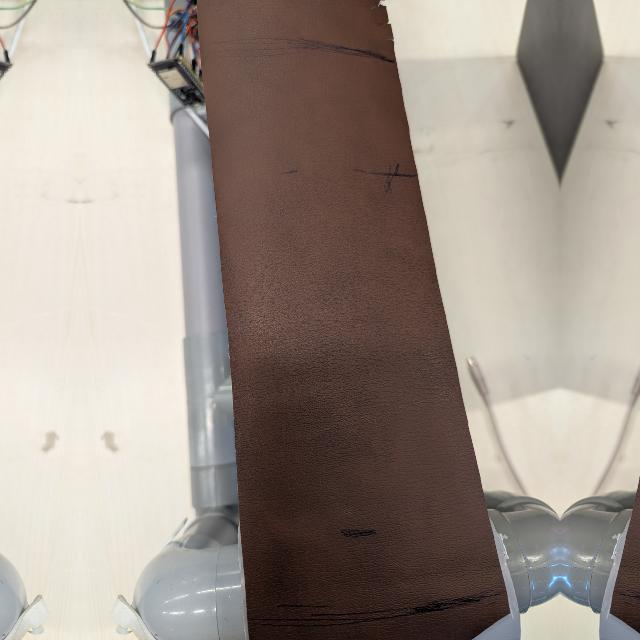belt_tear: (467, 599, 507, 640), (613, 599, 640, 640)
edge_damage: (370, 0, 405, 53)
